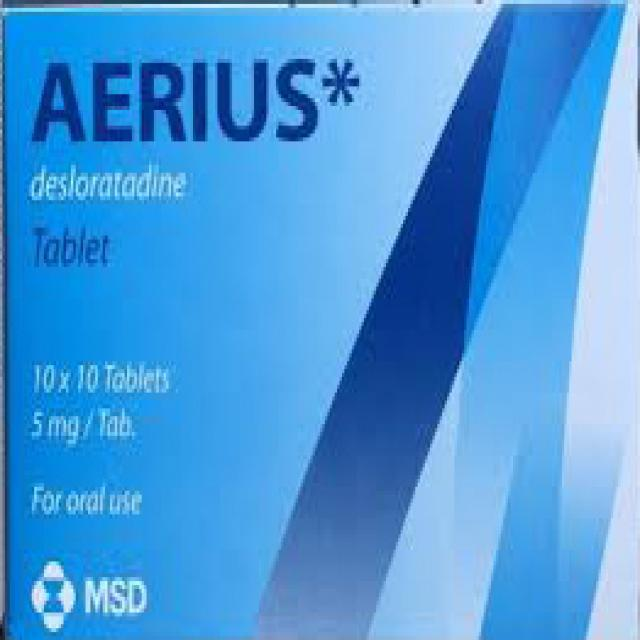drug-name: (28, 47, 320, 149)
